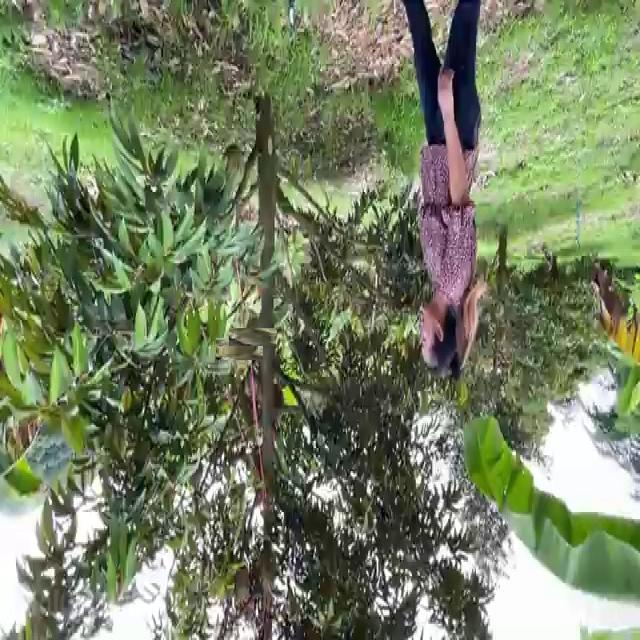durian: (223, 331, 257, 366), (237, 320, 270, 353)
